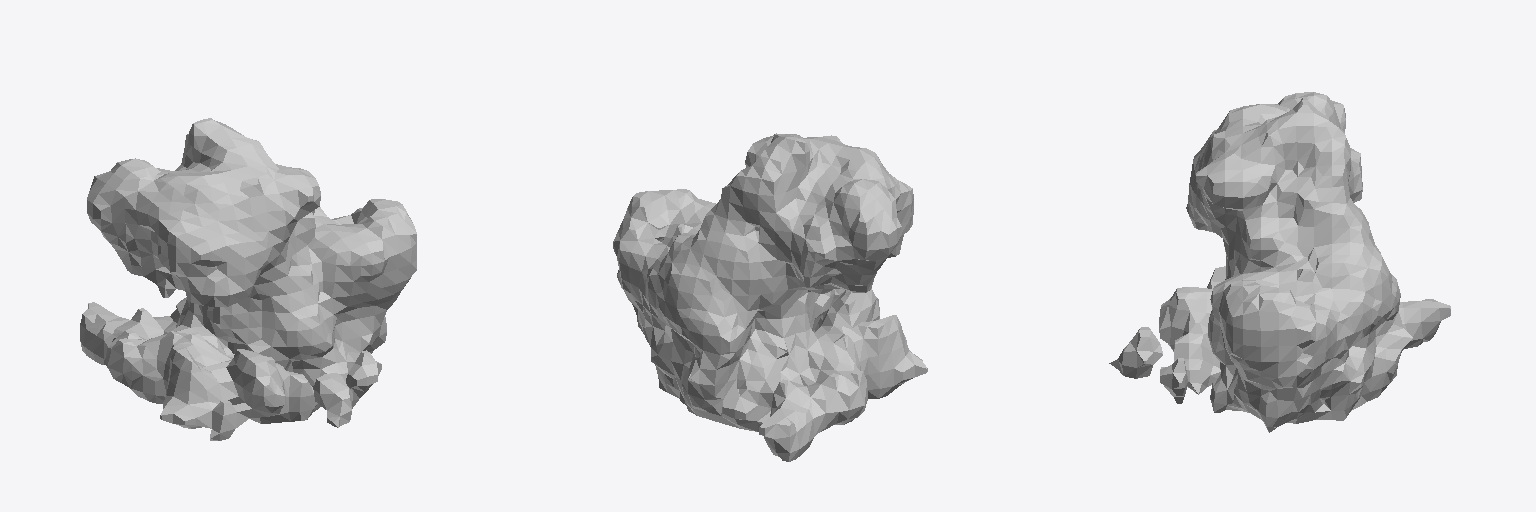
Rendered from cloud1.obj.
3 renders of one model, left to right at view 1: azimuth 30°, elevation 25°; view 2: azimuth 150°, elevation 25°; view 3: azimuth 270°, elevation 25°, orthographic.
Visible parts, largest first — view 1: 1023; view 2: 1023; view 3: 1023.
Boxes of the visible parts, box(x1,y1,x2,y2) form: 1023: box(80, 118, 416, 440); 1023: box(613, 133, 927, 461); 1023: box(1109, 92, 1450, 432).
Bounding box in the file's own units: 46.56 × 41.31 × 47.11.